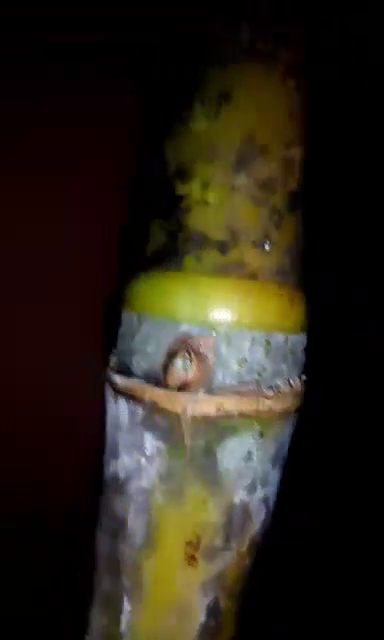cane eye: (163, 336, 209, 397)
